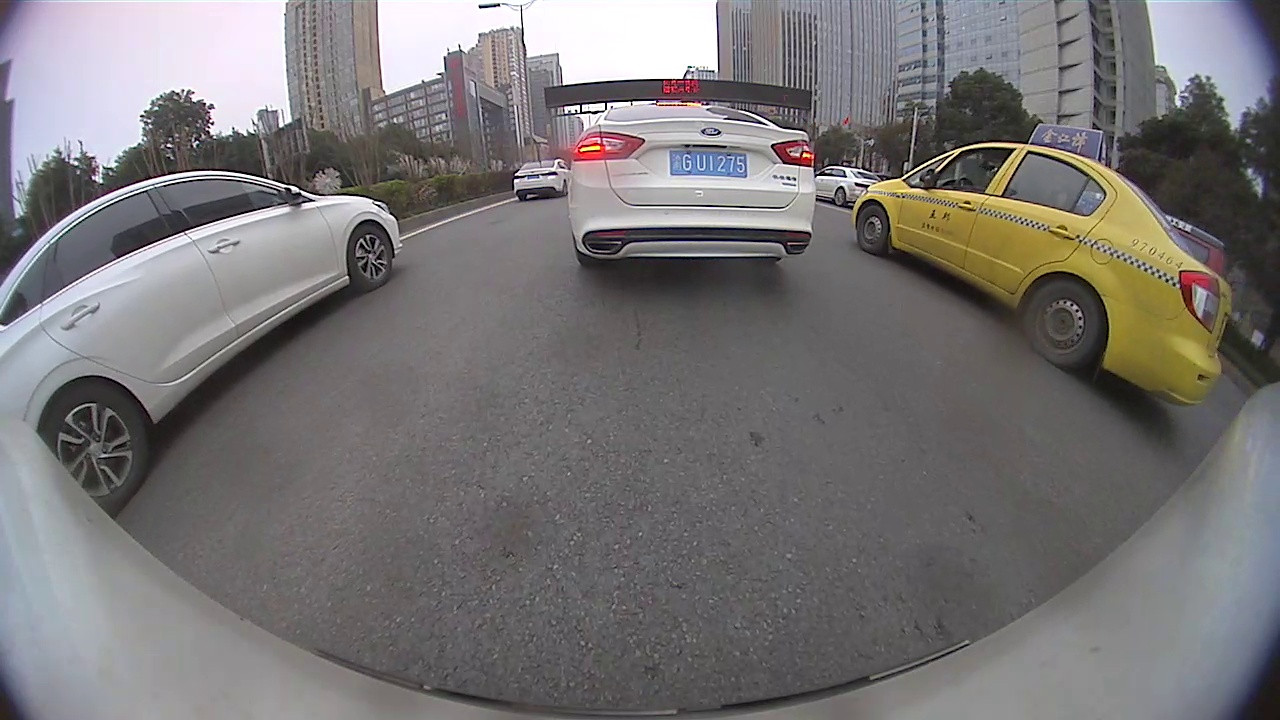car: (1, 170, 402, 517), (852, 124, 1232, 407), (569, 98, 816, 267), (814, 164, 883, 207), (514, 158, 571, 200)
front: (345, 220, 394, 295), (856, 205, 889, 254)
rear: (37, 380, 153, 516), (1021, 276, 1106, 370), (832, 184, 847, 206)
